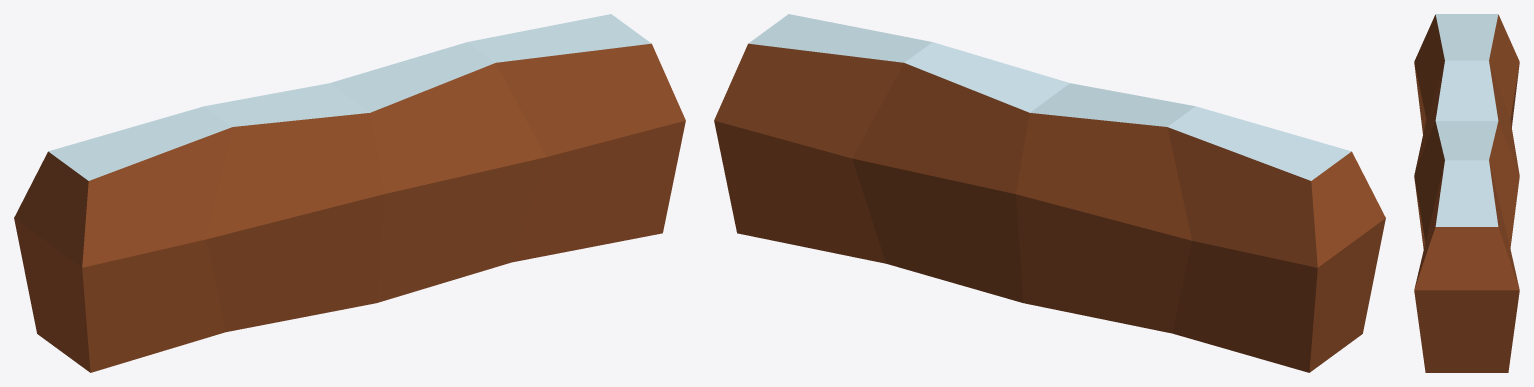
File: SM_Env_Generic_Bush_04_Snow.fbx
3 views of the same model, side by side, from view 1: azimuth 30°, elevation 25°; view 2: azimuth 150°, elevation 25°; view 3: azimuth 270°, elevation 25° (orthographic). The views are drawn at different scales.
Parts seen in each view (by area): view 1: SM_Env_Generic_Bush_04_Snow; view 2: SM_Env_Generic_Bush_04_Snow; view 3: SM_Env_Generic_Bush_04_Snow.
Part boxes in pixels (x1,y1,x2,y2): SM_Env_Generic_Bush_04_Snow: (14, 14, 685, 372); SM_Env_Generic_Bush_04_Snow: (714, 14, 1385, 372); SM_Env_Generic_Bush_04_Snow: (1414, 14, 1519, 372).
Size of the model in its own units: 96.26 by 30.33 by 18.82.
Materials: 1 (1 with a texture image).
